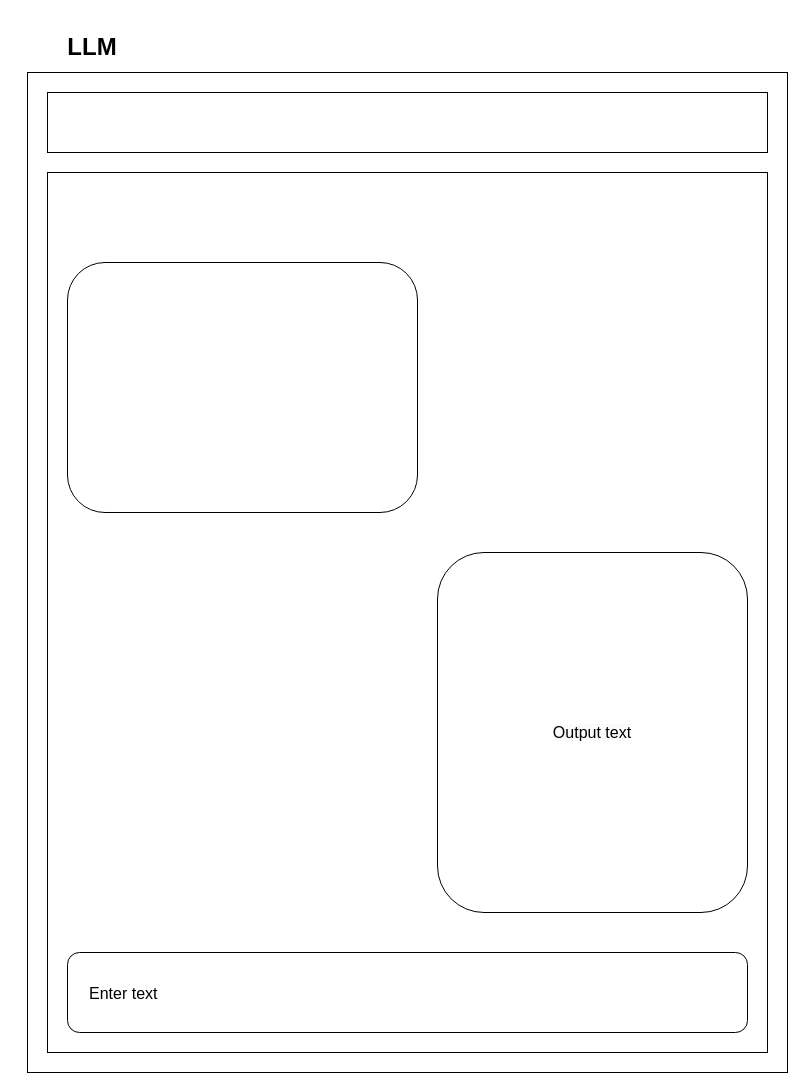
The diagram is 805 pixels wide and 1090 high, and some of its shapes have lost their labels. The shapes that lost their labels are listed below. From the top down, each one's centre as x and y in pixels, then its label:
At pixel 407 122: "Header".
At pixel 242 387: "Input text".
